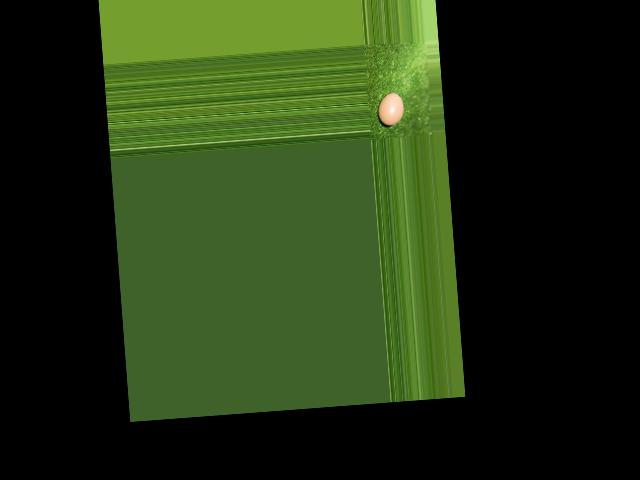egg: (376, 91, 404, 126)
